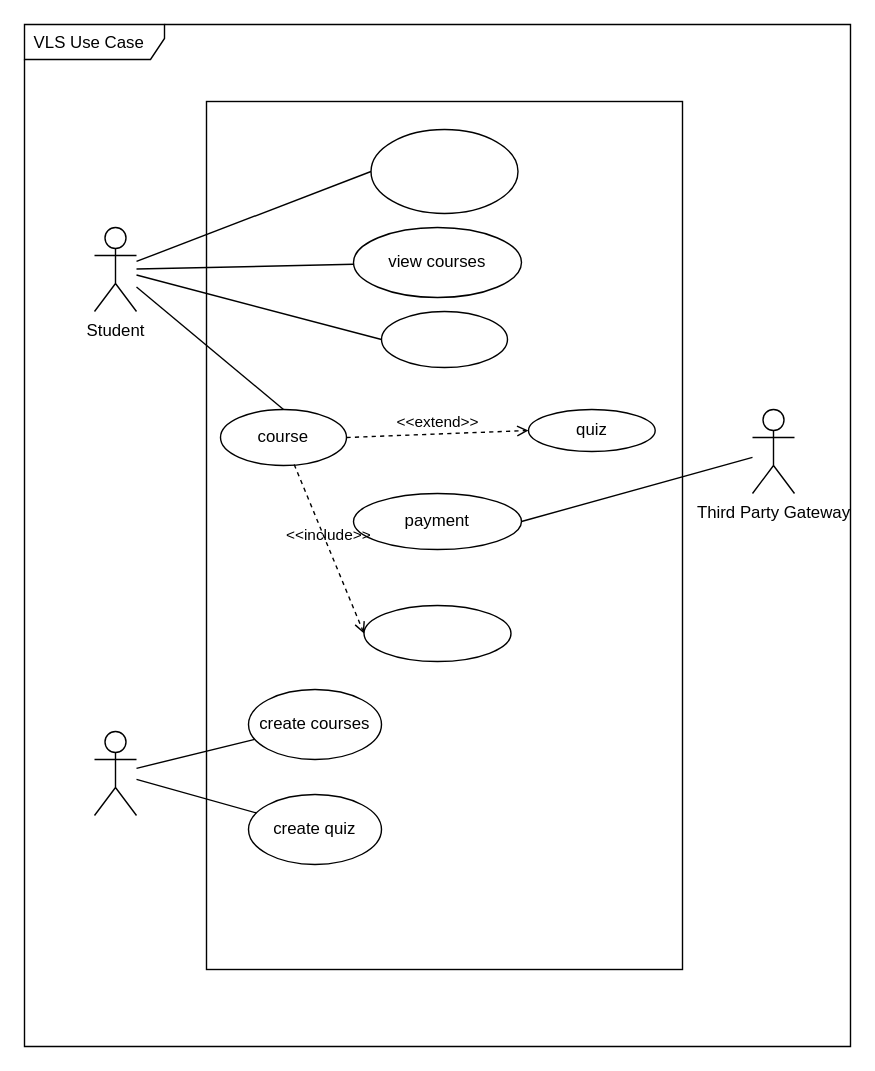
Image size: 875x1071. Some labels were removed from this diagram. The box of each missing label's shape, as (x1, y1, x2, y2) in pixels:
Author: (93, 730, 136, 816)
cerificate: (363, 604, 511, 662)
register as student: (370, 128, 518, 214)
signup: (380, 310, 507, 368)
